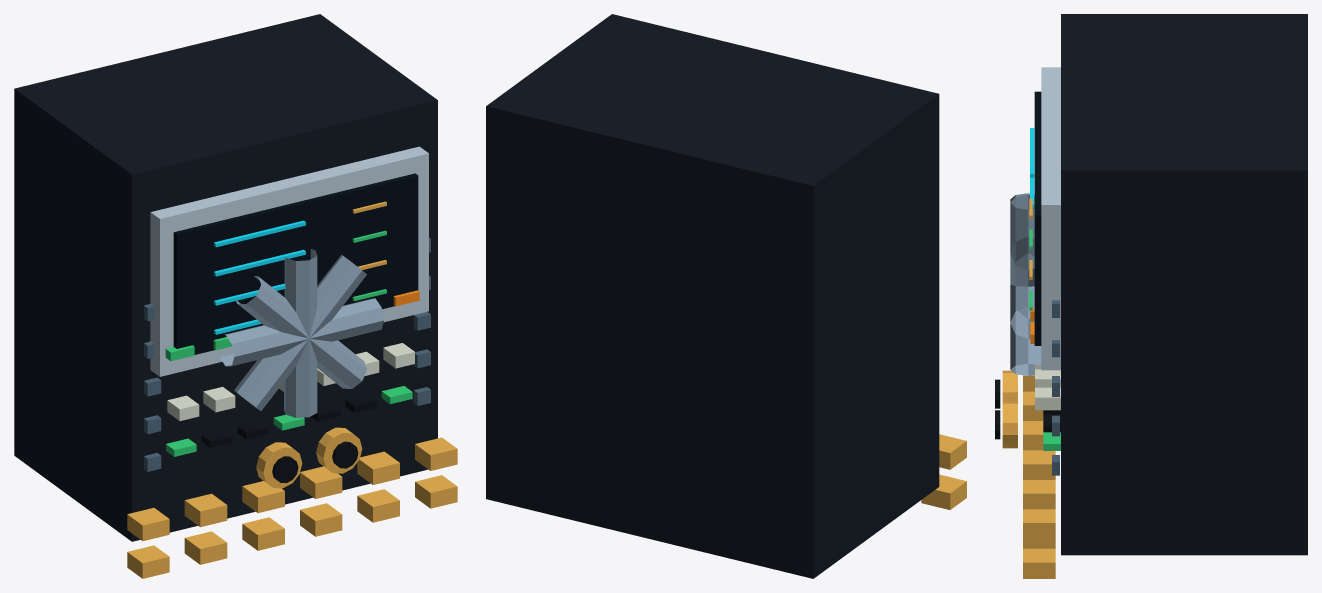
File: 52_L92_DrillThermalManagementUnit.fbx
3 renders of one model, left to right at view 1: azimuth 30°, elevation 25°; view 2: azimuth 150°, elevation 25°; view 3: azimuth 270°, elevation 25°, orthographic. The views are drawn at different scales.
Parts seen in each view (by area): view 1: L92_DrillThermalManagementUnit, L92_DrillThermalManagementUnit_Part_0011, L92_DrillThermalManagementUnit_Part_0012, L92_DrillThermalManagementUnit_Part_0014, L92_DrillThermalManagementUnit_Part_0015; view 2: L92_DrillThermalManagementUnit; view 3: L92_DrillThermalManagementUnit, L92_DrillThermalManagementUnit_Part_0011, L92_DrillThermalManagementUnit_Part_0014, L92_DrillThermalManagementUnit_Part_0012.
Boxes of the visible parts, box(x1,y1,x2,y2) form: L92_DrillThermalManagementUnit: box(14, 14, 457, 578); L92_DrillThermalManagementUnit_Part_0011: box(220, 249, 383, 417); L92_DrillThermalManagementUnit_Part_0012: box(256, 442, 302, 488); L92_DrillThermalManagementUnit_Part_0014: box(316, 427, 362, 473); L92_DrillThermalManagementUnit_Part_0015: box(332, 441, 358, 468); L92_DrillThermalManagementUnit: box(486, 14, 966, 578); L92_DrillThermalManagementUnit: box(1023, 14, 1307, 578); L92_DrillThermalManagementUnit_Part_0011: box(1010, 193, 1041, 375); L92_DrillThermalManagementUnit_Part_0014: box(1002, 401, 1017, 448); L92_DrillThermalManagementUnit_Part_0012: box(1002, 370, 1017, 401).
Size of the model in its own units: 105 by 124 by 86.2.
